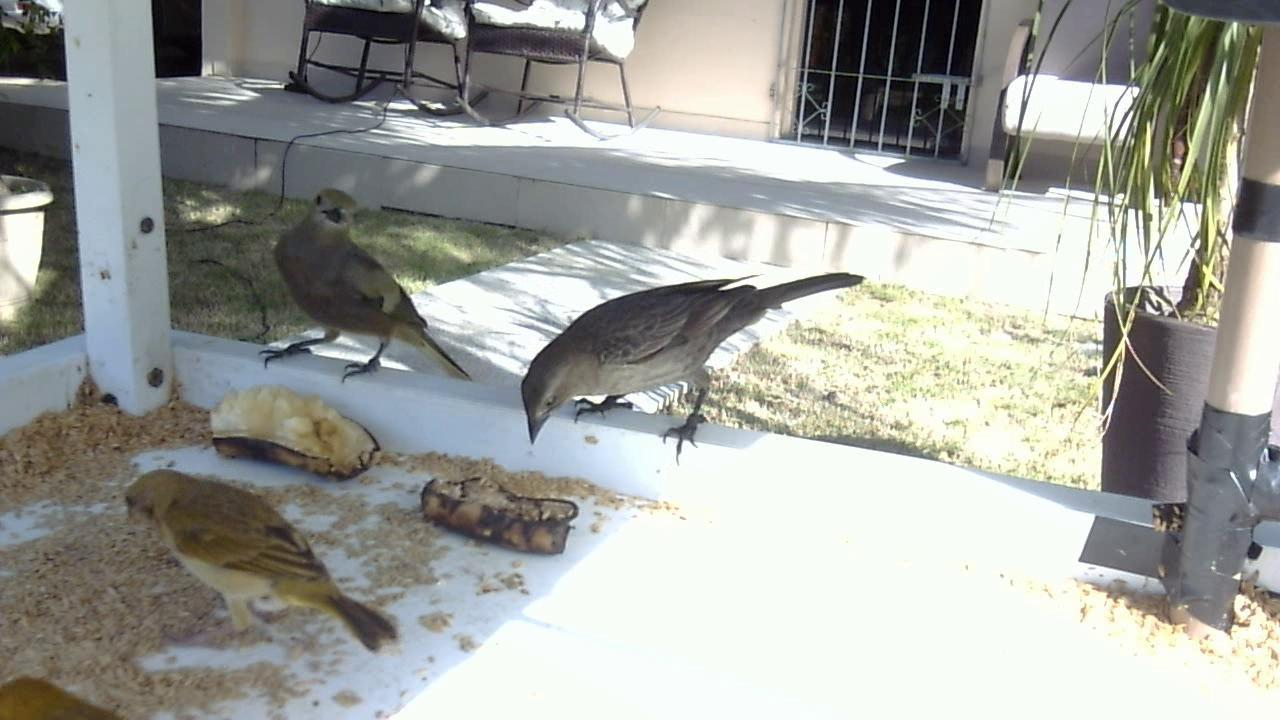canario_do_amazonas: (121, 456, 401, 663)
chupim: (509, 261, 871, 467)
sanhaco_do_coqueiro: (252, 181, 476, 393)
